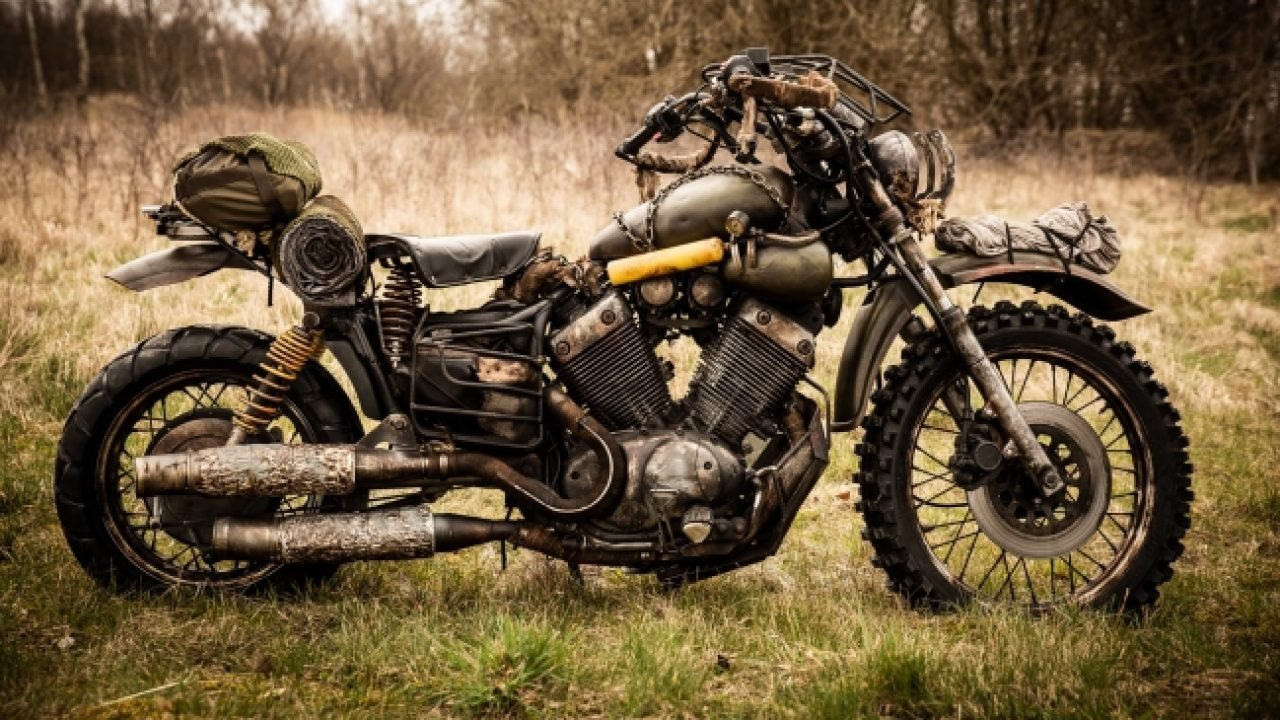bike: (54, 38, 1198, 622)
